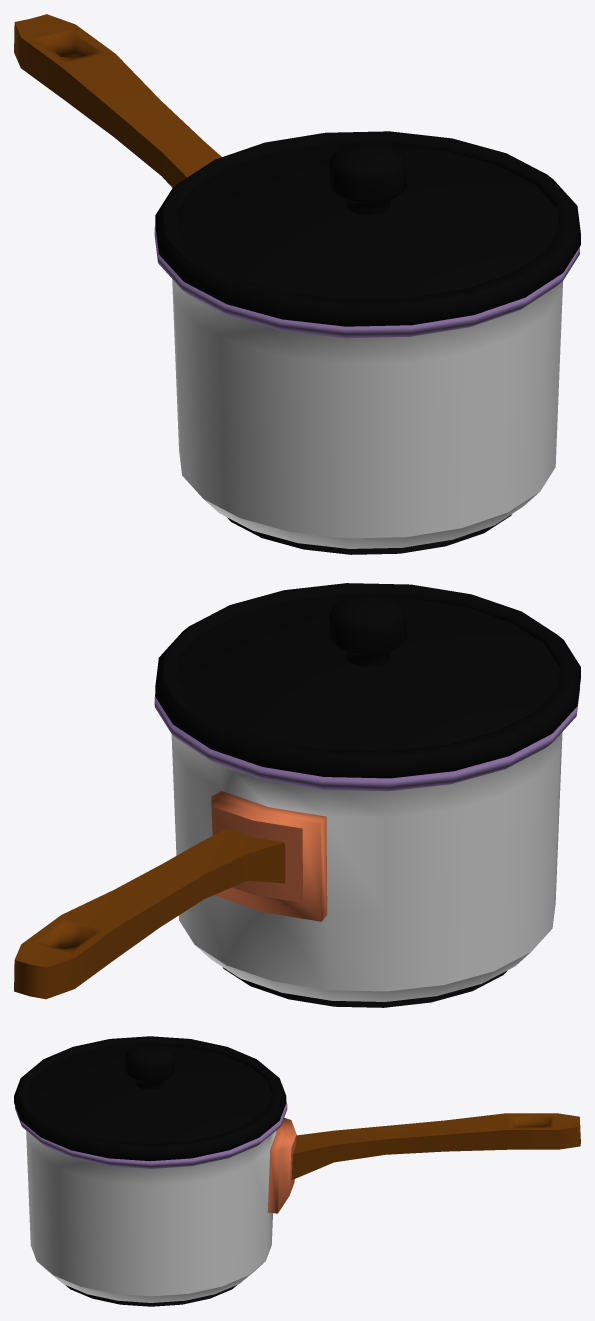
Rendered from Kastrull_medlock_malte_001.fbx.
3 views of the same model, one above another, from view 1: azimuth 30°, elevation 25°; view 2: azimuth 150°, elevation 25°; view 3: azimuth 270°, elevation 25° (orthographic). The views are drawn at different scales.
Visible parts, largest first — view 1: file1; view 2: file1; view 3: file1.
Boxes of the visible parts, <box> form: file1: <box>14,14,580,554</box>; file1: <box>14,583,580,1007</box>; file1: <box>14,1036,580,1306</box>.
Size of the model in its own units: 1.92 by 1.67 by 3.99.
